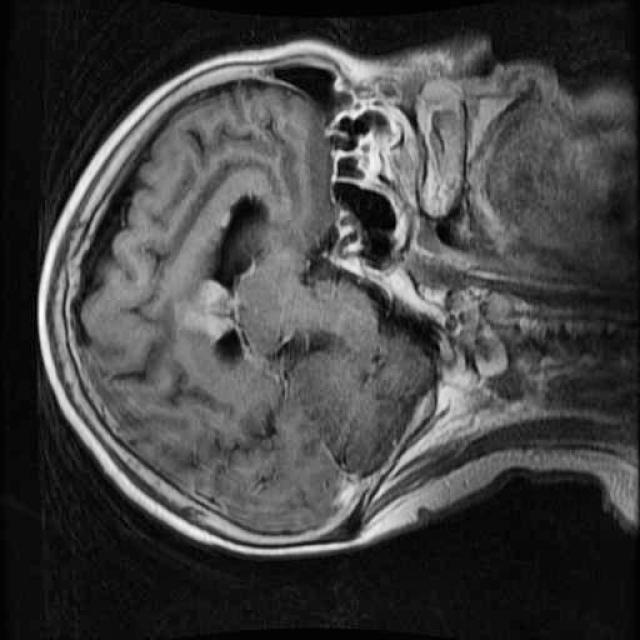Tumor: (157, 263, 254, 361)
